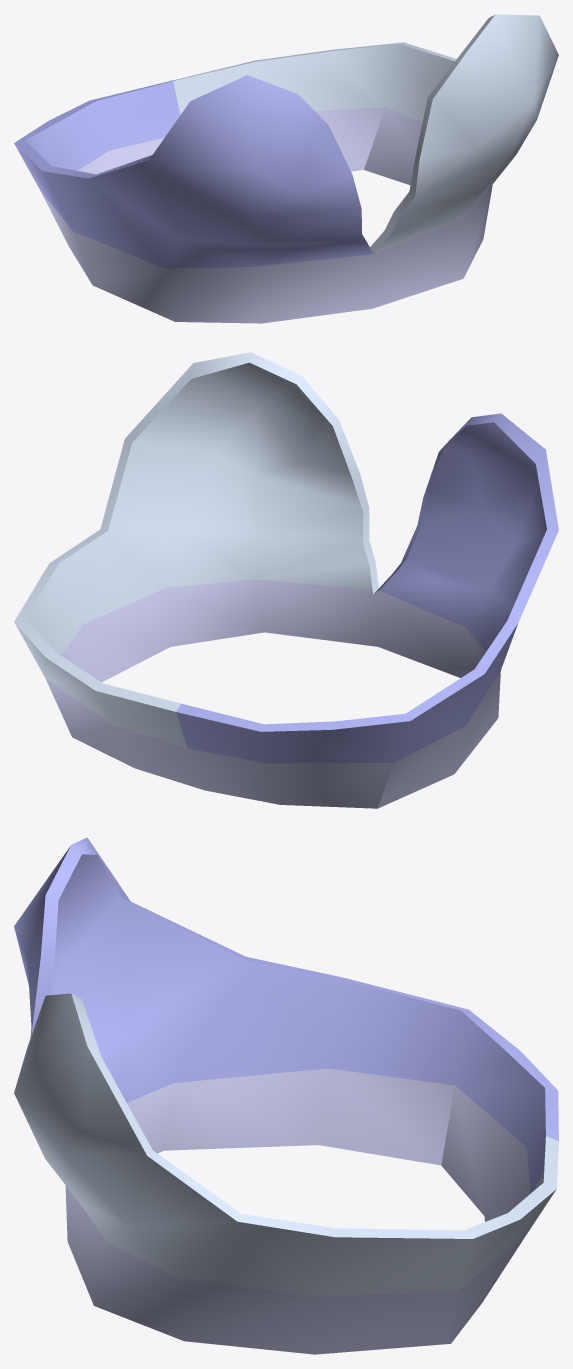
Rendered from BraNews.fbx.
3 views of the same model, one above another, from view 1: azimuth 30°, elevation 25°; view 2: azimuth 150°, elevation 25°; view 3: azimuth 270°, elevation 25° (orthographic). The views are drawn at different scales.
Parts seen in each view (by area): view 1: BraNews; view 2: BraNews; view 3: BraNews.
Part boxes in pixels (box(x1,y1,x2,y2)): BraNews: box(14, 14, 558, 323); BraNews: box(14, 352, 558, 808); BraNews: box(14, 837, 558, 1354).
Bounding box in the file's own units: 27.71 × 16.96 × 24.38.
